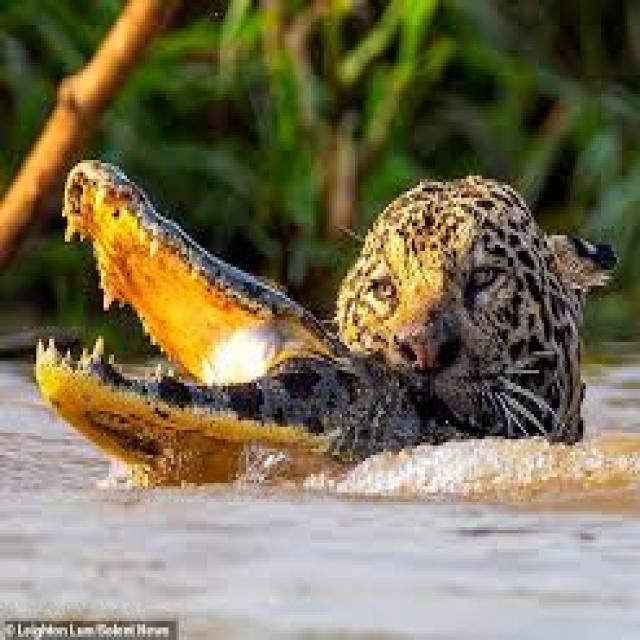Jaguar: (337, 172, 622, 448)
